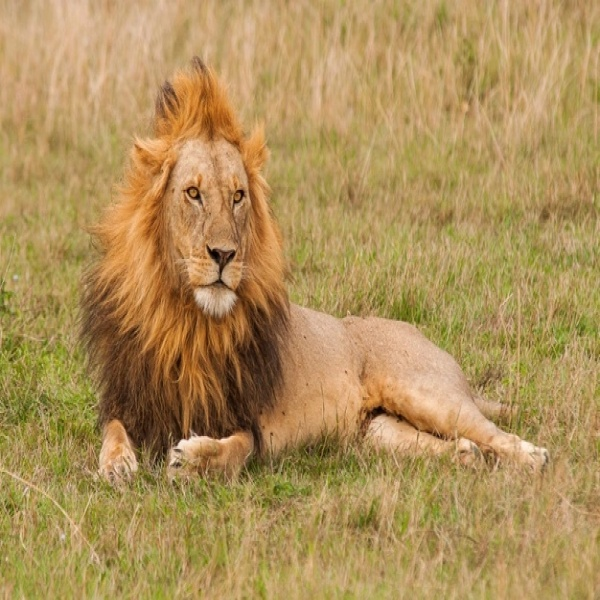Lion: (79, 52, 556, 486)
